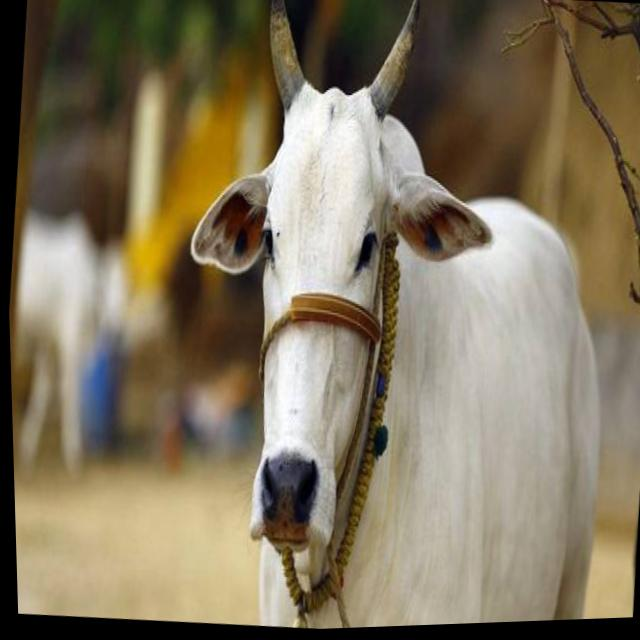cowFace: (149, 0, 519, 590)
